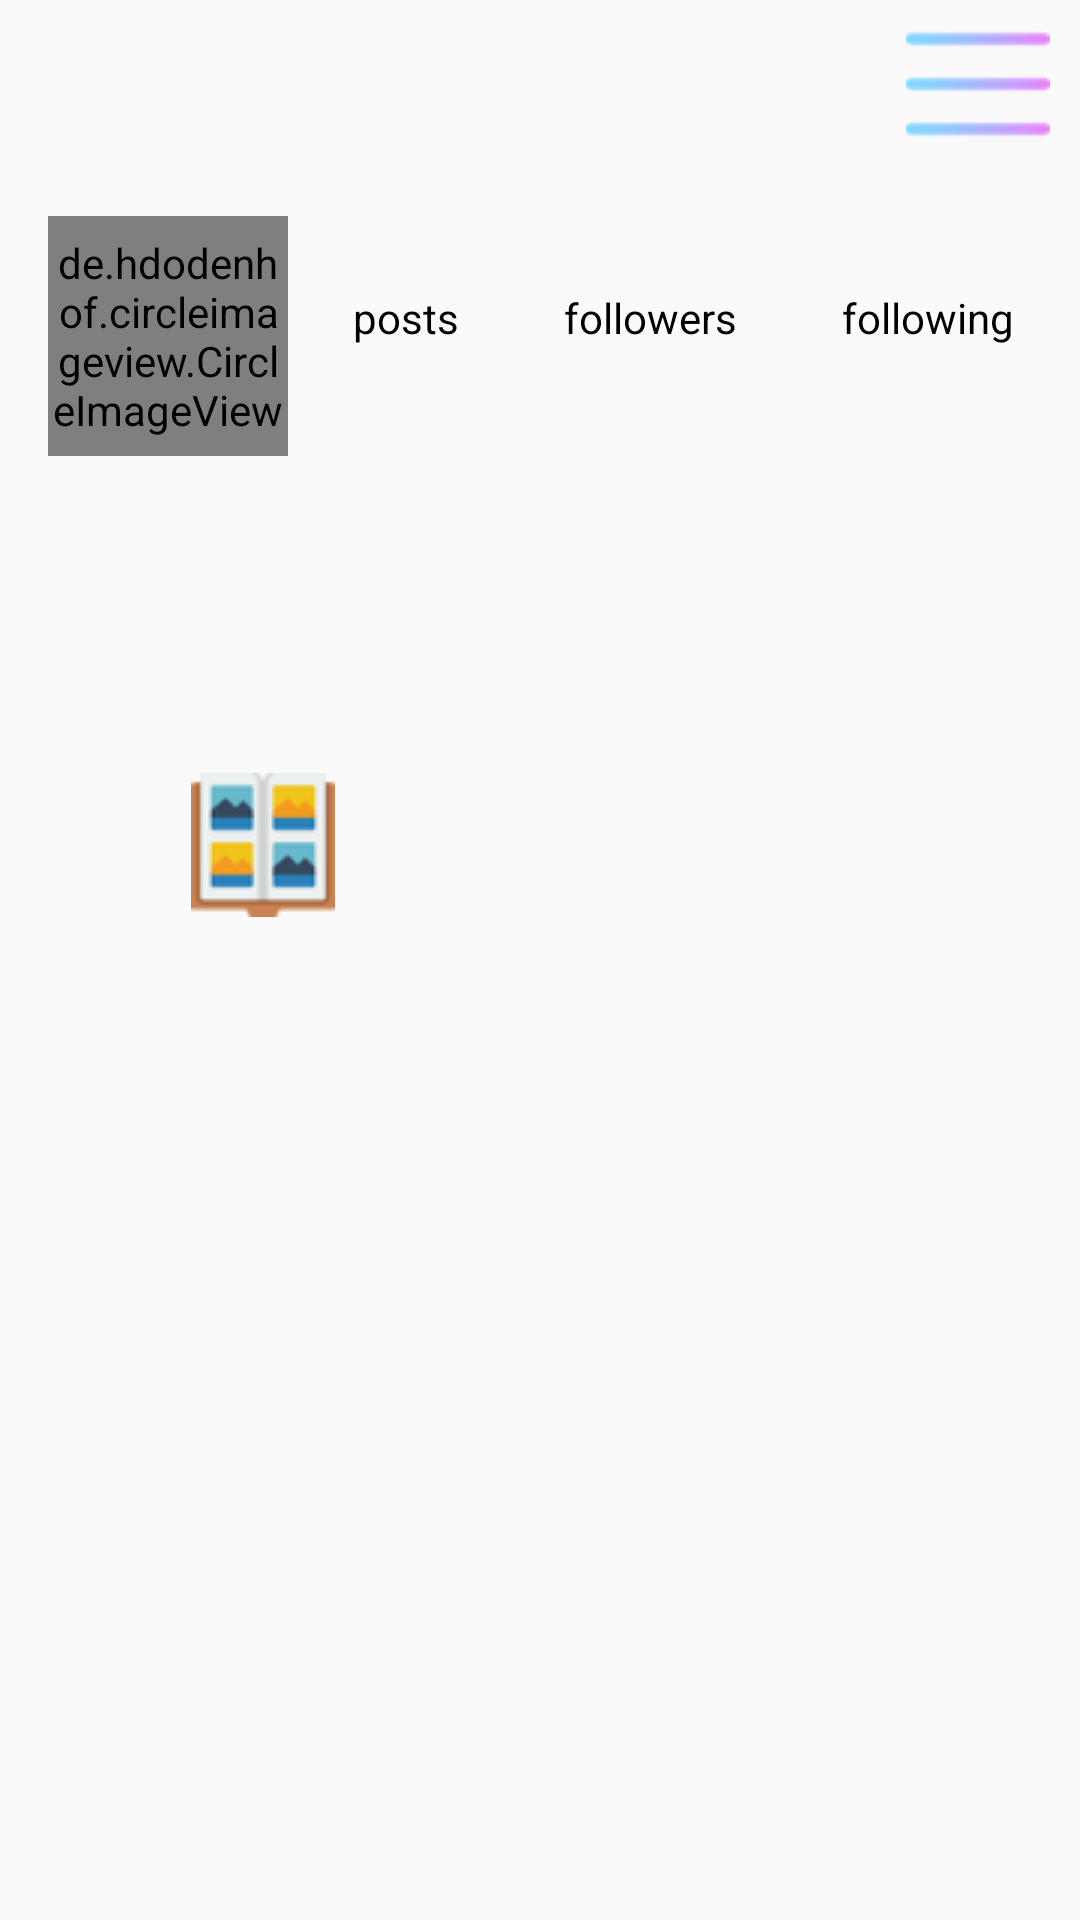

Icon bounding boxes for this 1080×1920 phone screenshot, format detection(x1, y1, x2, y2):
album: detection(191, 773, 335, 917)
options: detection(906, 32, 1050, 136)
